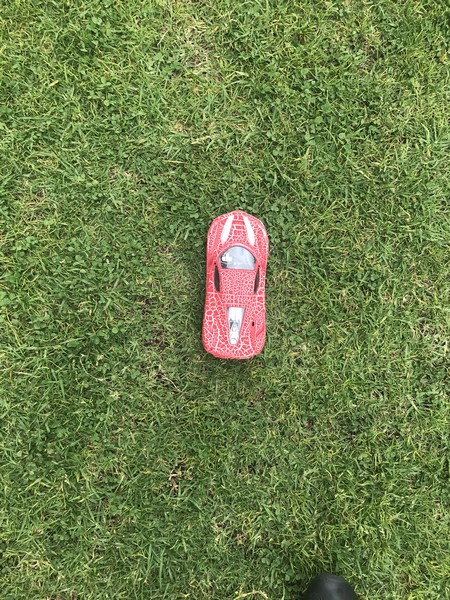RC: (200, 210, 271, 360)
